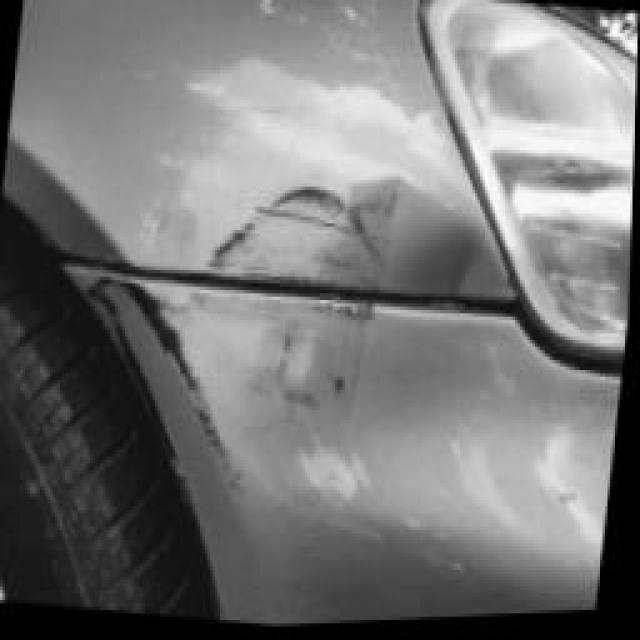Bumper: (72, 262, 585, 553)
Fender: (68, 134, 518, 291)
